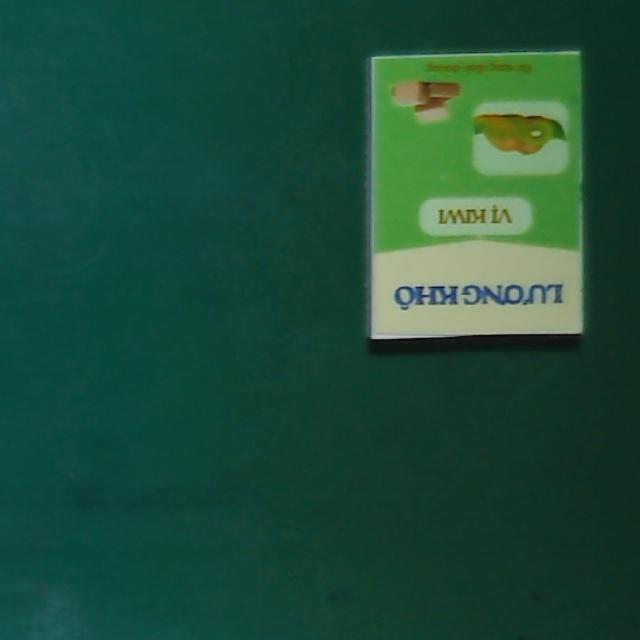kiwi: (365, 49, 584, 339)
